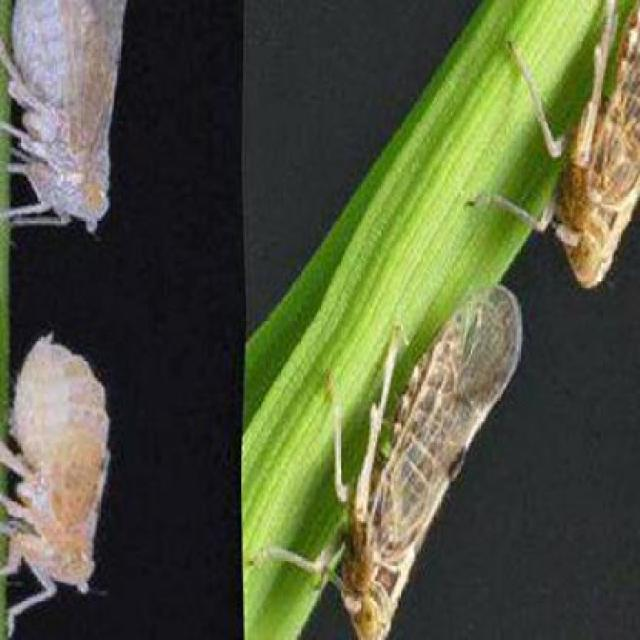brown-planthopper: (284, 276, 531, 638), (538, 0, 640, 289), (10, 335, 116, 593), (10, 0, 119, 231)
